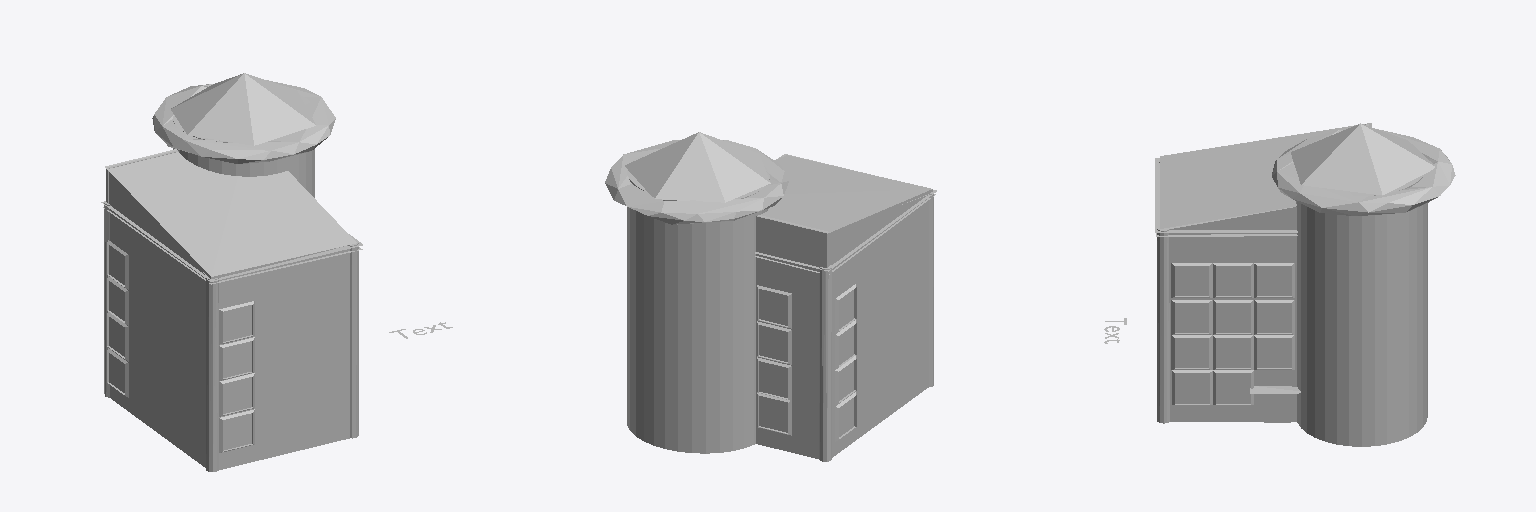
Rendered from information_senter.obj.
The picture shows the model from 3 angles: view 1: azimuth 30°, elevation 25°; view 2: azimuth 150°, elevation 25°; view 3: azimuth 270°, elevation 25°; orthographic projection.
Bounding box in the file's own units: 7.75 × 9.87 × 10.72.